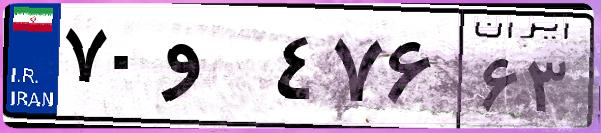0: (110, 28, 158, 98)
3: (525, 38, 570, 115)
4: (270, 28, 330, 110)
6: (385, 28, 445, 110), (475, 38, 525, 113)
7: (330, 28, 385, 110), (57, 26, 110, 100)
و: (158, 20, 270, 120)
